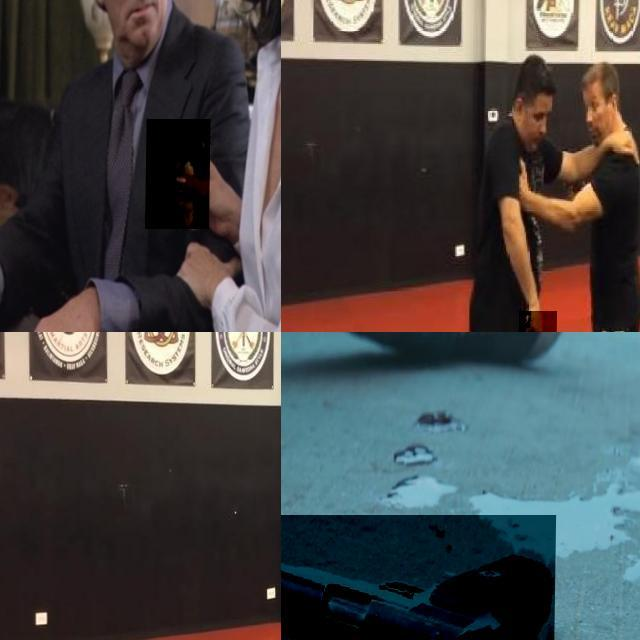-: (519, 311, 558, 332)
gun-knife-thesis - v11 Yolov5 augmented: (281, 514, 556, 640), (147, 119, 212, 229)
